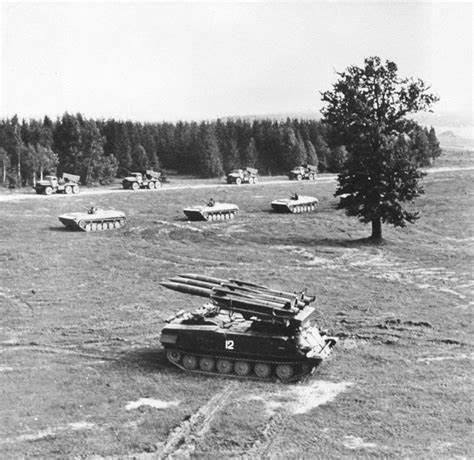armored_car: (158, 269, 339, 383), (59, 205, 129, 235), (180, 195, 240, 226), (270, 192, 319, 216)
